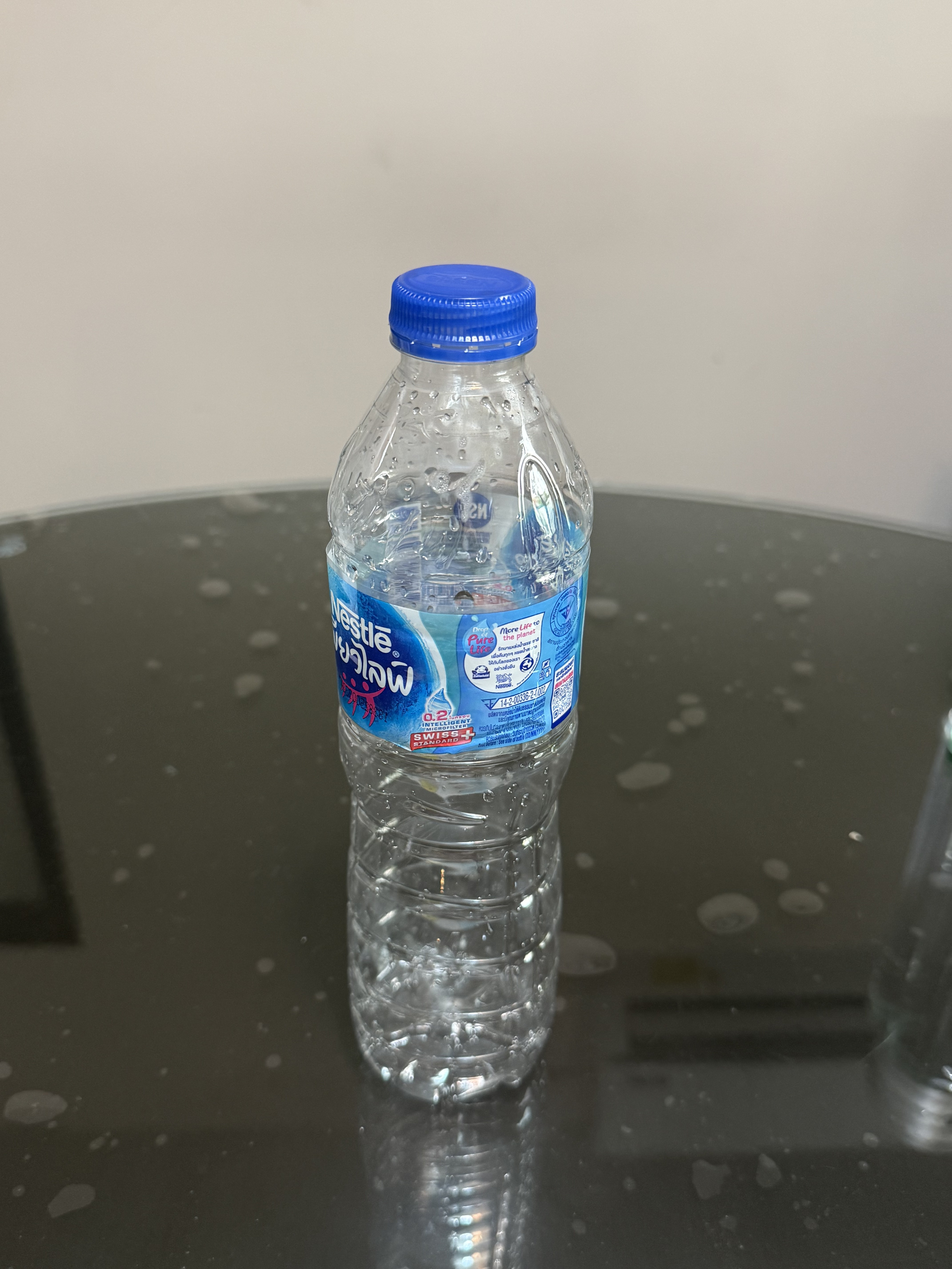closed_cap: (386, 260, 539, 362)
